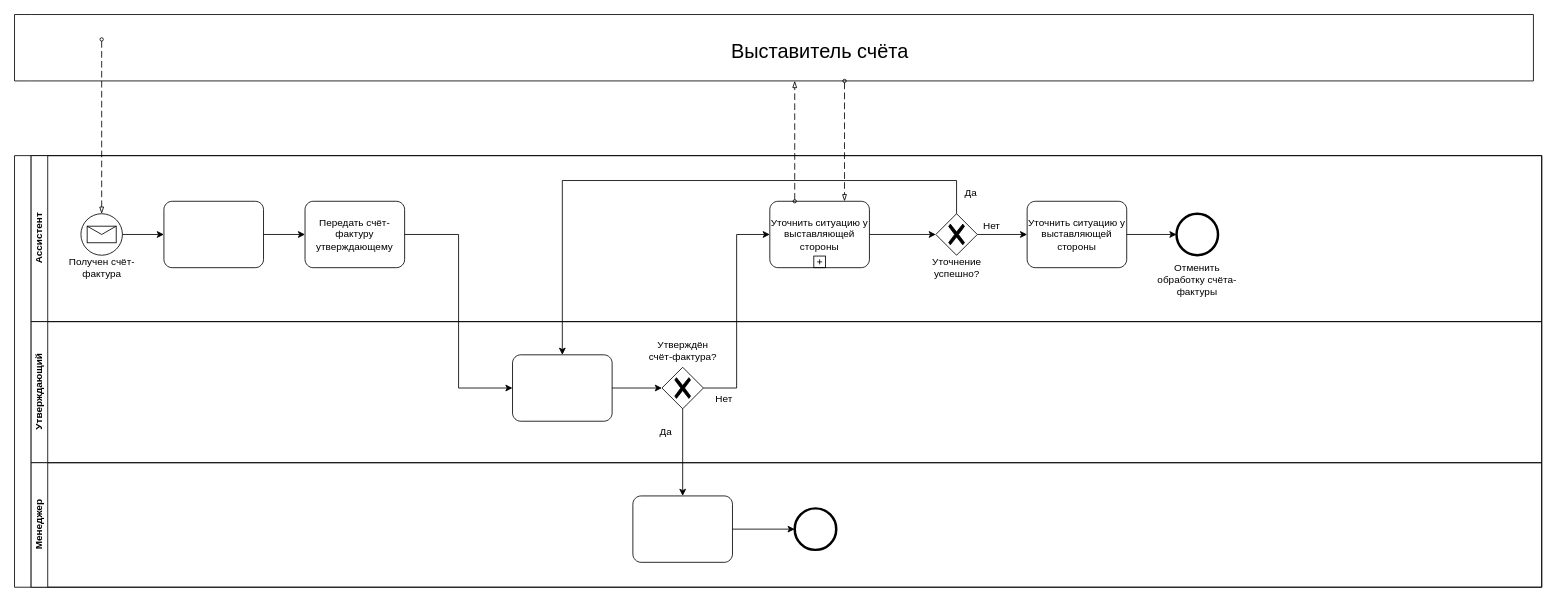
This 1556x602 diagram has some shape labels left out. Each missing label, with the centre of its shape:
"Оплатить счёт-фактуру" goes at point (682, 528).
"Отсканировать счёт-фактуру" goes at point (213, 234).
"Проверить счёт-фактуру" goes at point (562, 387).
